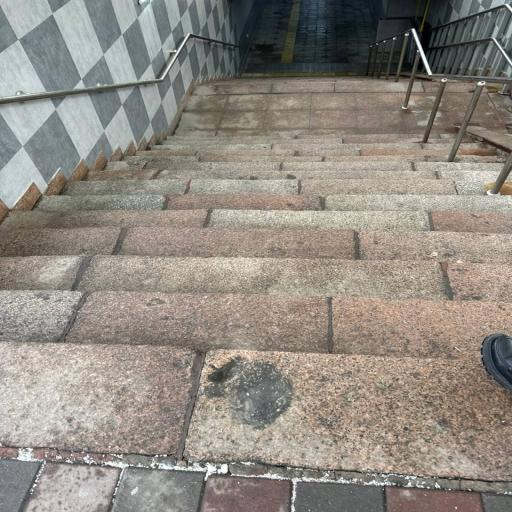laptop: (0, 78, 512, 480)
